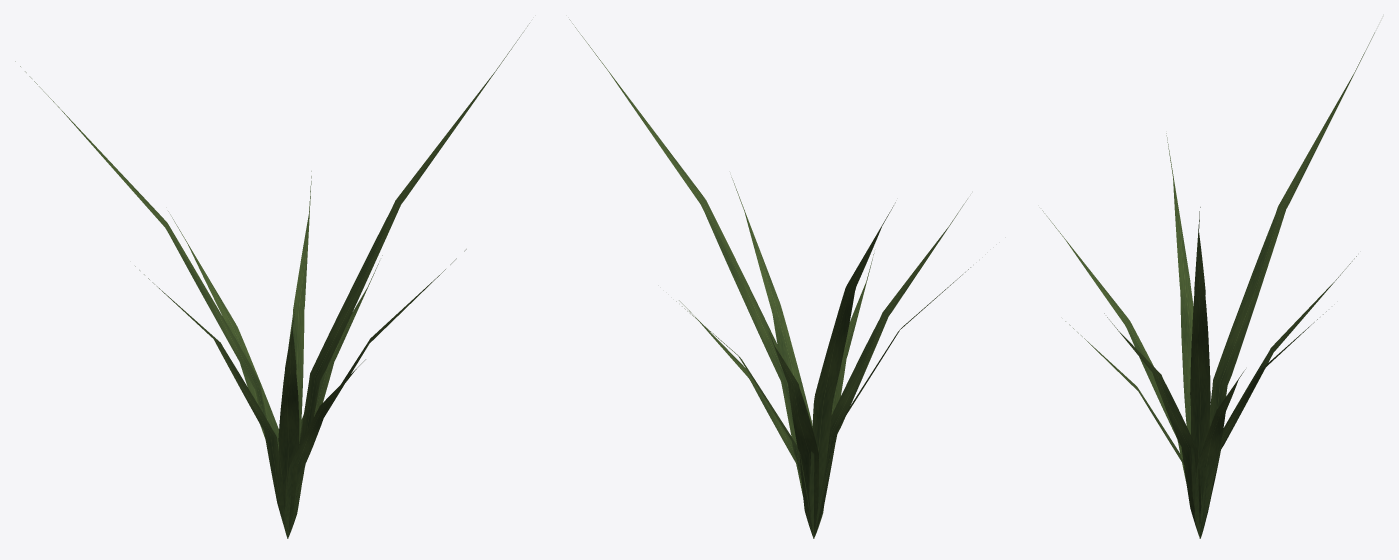
Rendered from grass_tuft_lod0.glb.
3 renders of one model, left to right at view 1: azimuth 30°, elevation 25°; view 2: azimuth 150°, elevation 25°; view 3: azimuth 270°, elevation 25°, orthographic. The views are drawn at different scales.
Visible parts, largest first — view 1: grass_tuft_L0__blade; view 2: grass_tuft_L0__blade; view 3: grass_tuft_L0__blade.
Boxes of the visible parts, bbox=[...] form: grass_tuft_L0__blade: bbox=[15, 23, 529, 538]; grass_tuft_L0__blade: bbox=[569, 19, 970, 538]; grass_tuft_L0__blade: bbox=[1042, 32, 1374, 538].
Size of the model in its own units: 0.5537 by 0.5744 by 0.4025.
Materials: 1 (1 with a texture image).
